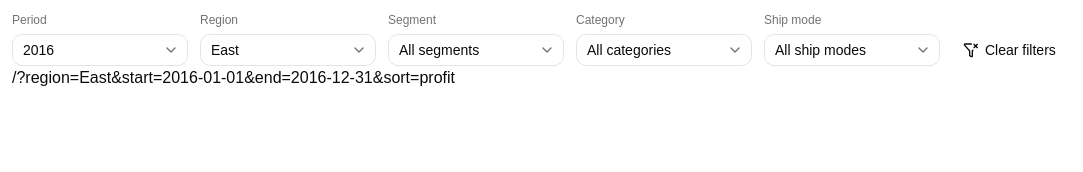
Test: FilterBar › offers API-provided options and clears all filters
The image size is (1083, 172).
Expected: the dropdown named "Region" reads "East", [200,34,376,66]
Expected: the dropdown named "Period" reads "2016", [12,34,188,66]
Click the button "Clear filters".
click(1009, 50)  # box [952,34,1067,66]
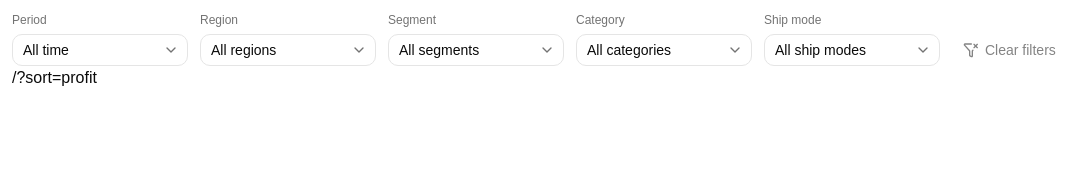
Expected: the text with test id "location" reads "/?sort=profit", [12,69,97,86]
Expected: the button "Clear filters" is disabled, [952,34,1067,66]
